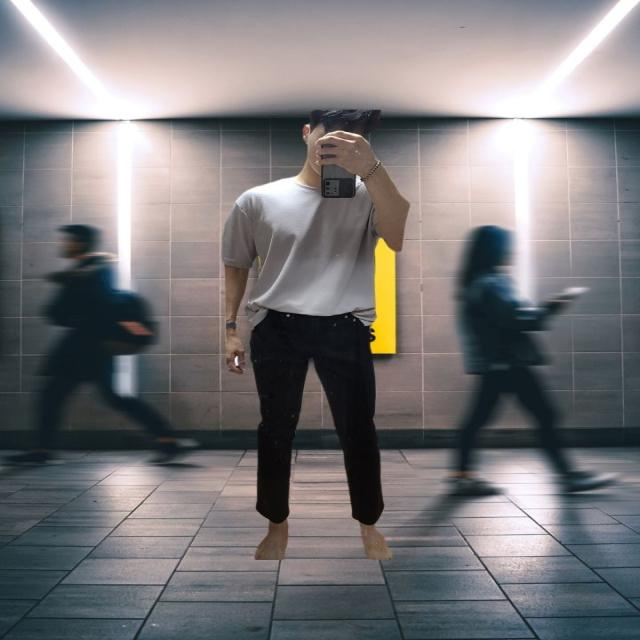denimpants: (249, 312, 387, 526)
shortsleeve: (217, 180, 381, 330)
